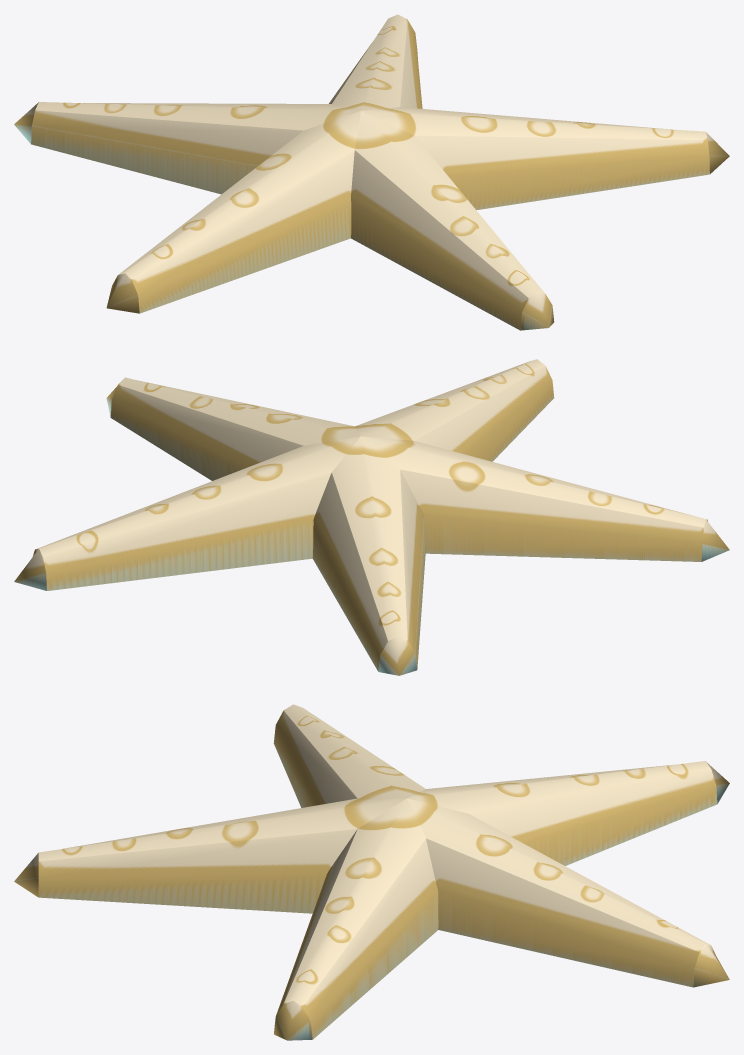
File: StarFish_2.fbx
The picture shows the model from 3 angles, top to bottom: view 1: azimuth 30°, elevation 25°; view 2: azimuth 150°, elevation 25°; view 3: azimuth 270°, elevation 25°; orthographic projection. The views are drawn at different scales.
Parts seen in each view (by area): view 1: StarFish; view 2: StarFish; view 3: StarFish.
Boxes of the visible parts, x1,y1,x2,y2 form: StarFish: (14,14,729,330); StarFish: (14,359,729,675); StarFish: (14,704,729,1040).
Bounding box in the file's own units: 40.85 × 5.45 × 38.85.
Materials: 1 (1 with a texture image).
